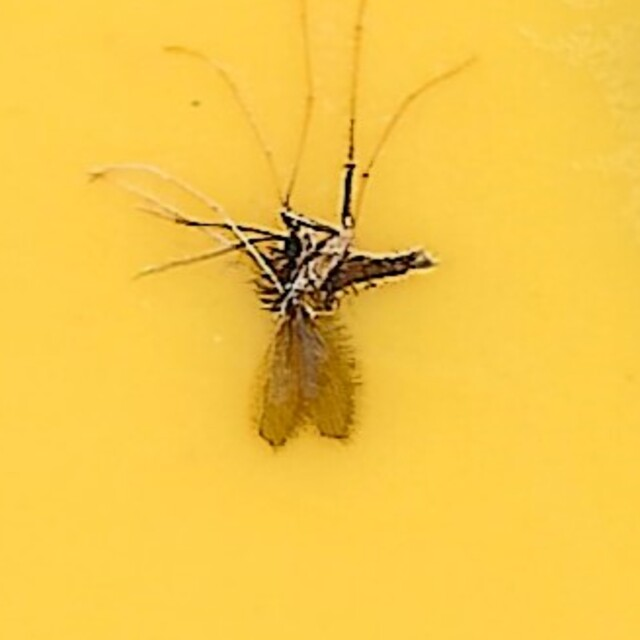Nematocera: (195, 187, 445, 453)
